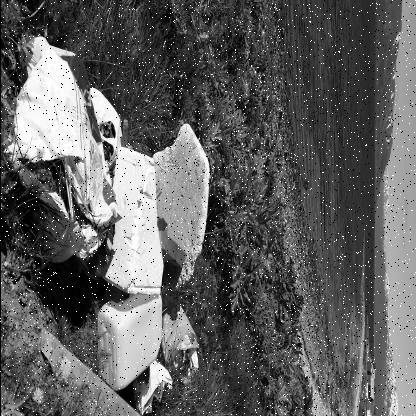foam: (148, 252, 296, 316)
plastic: (294, 254, 390, 321), (290, 219, 366, 256)
